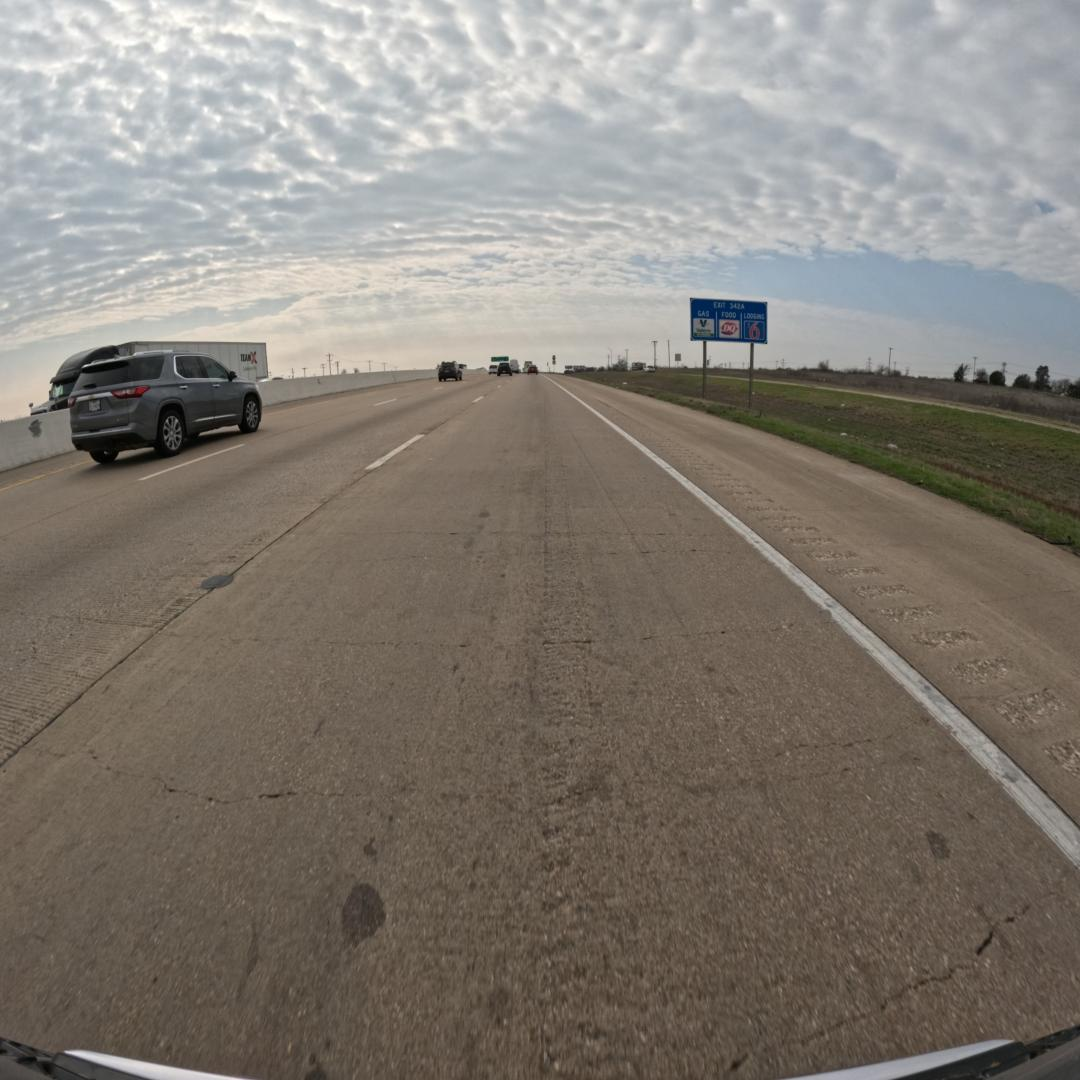lane0: (0, 377, 1080, 1077)
lane1: (0, 382, 494, 767)
